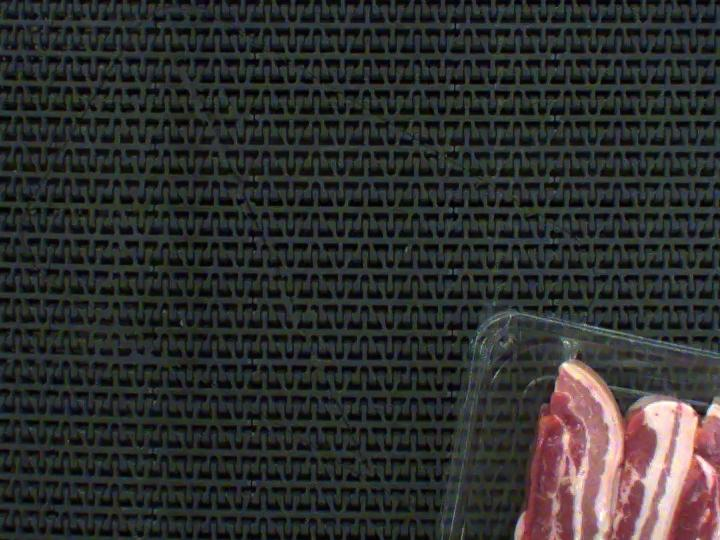packaging-error: (513, 278, 720, 455)
